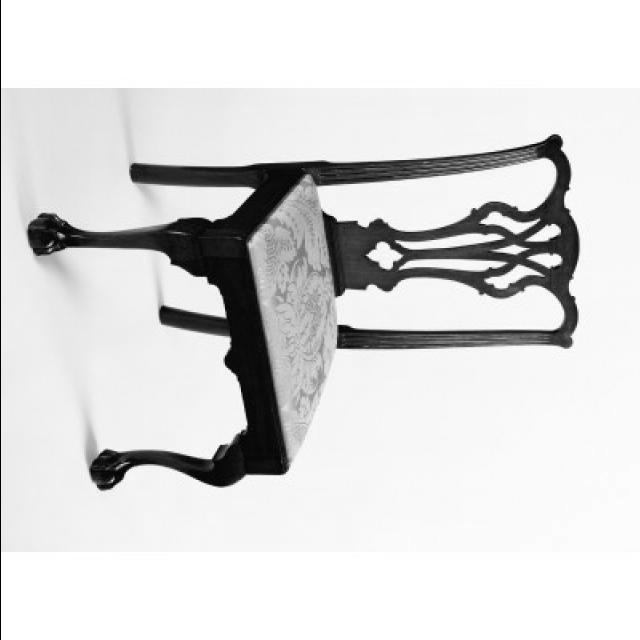chair: (27, 130, 582, 497)
